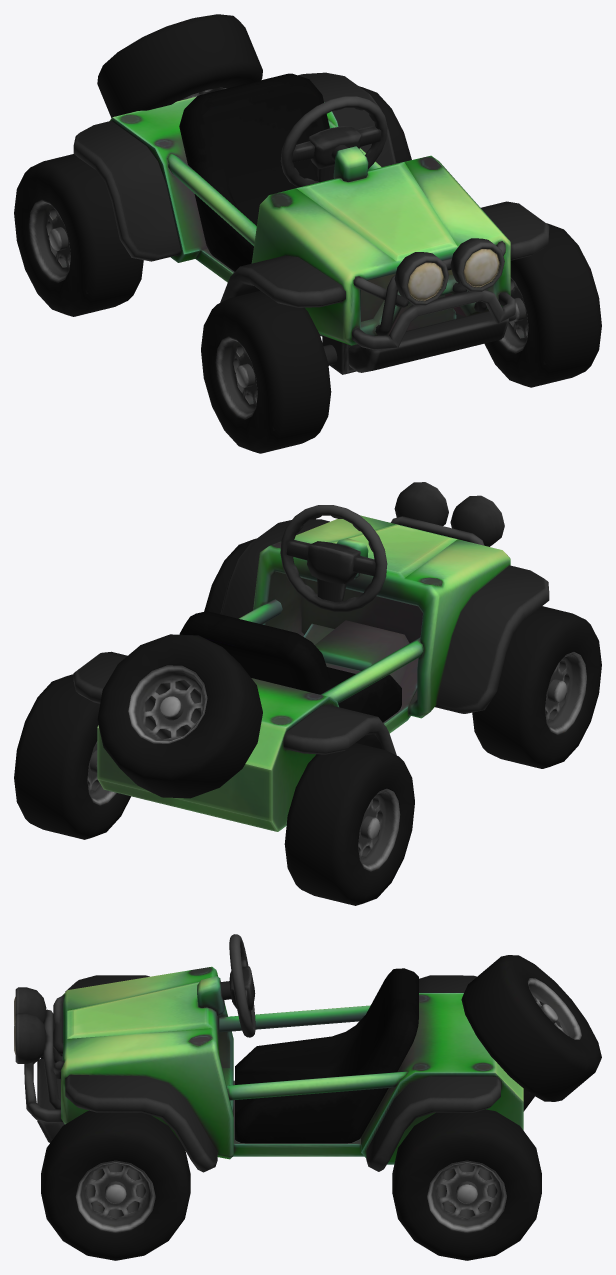
The model's file is BaseRaceKart8.gltf.
3 views of the same model, one above another, from view 1: azimuth 30°, elevation 25°; view 2: azimuth 150°, elevation 25°; view 3: azimuth 270°, elevation 25° (orthographic). The views are drawn at different scales.
Parts seen in each view (by area): view 1: Body, wheel-front-right.006, wheel-back-right.006, wheel-front-left.006, SteeringWheel, wheel-back-left.006; view 2: Body, wheel-back-right.006, wheel-front-right.006, wheel-back-left.006, SteeringWheel, wheel-front-left.006; view 3: Body, wheel-back-left.006, wheel-front-left.006, SteeringWheel.
Part boxes in pixels (x1=…): Body: x1=73, y1=14, x2=549, y2=374; wheel-front-right.006: x1=201, y1=290, x2=331, y2=453; wheel-back-right.006: x1=14, y1=154, x2=143, y2=316; wheel-front-left.006: x1=484, y1=223, x2=601, y2=387; SteeringWheel: x1=280, y1=96, x2=387, y2=187; wheel-back-left.006: x1=359, y1=86, x2=411, y2=163; Body: x1=73, y1=482, x2=549, y2=831; wheel-back-right.006: x1=284, y1=743, x2=414, y2=905; wheel-front-right.006: x1=472, y1=606, x2=601, y2=768; wheel-back-left.006: x1=14, y1=674, x2=130, y2=839; SteeringWheel: x1=280, y1=505, x2=387, y2=611; wheel-front-left.006: x1=204, y1=538, x2=256, y2=613; Body: x1=14, y1=955, x2=601, y2=1172; wheel-back-left.006: x1=392, y1=1109, x2=541, y2=1260; wheel-front-left.006: x1=41, y1=1110, x2=190, y2=1260; SteeringWheel: x1=229, y1=934, x2=255, y2=1037.
Bounding box in the file's own units: 1.6 × 1.22 × 2.62.
Materials: 1 (1 with a texture image).
